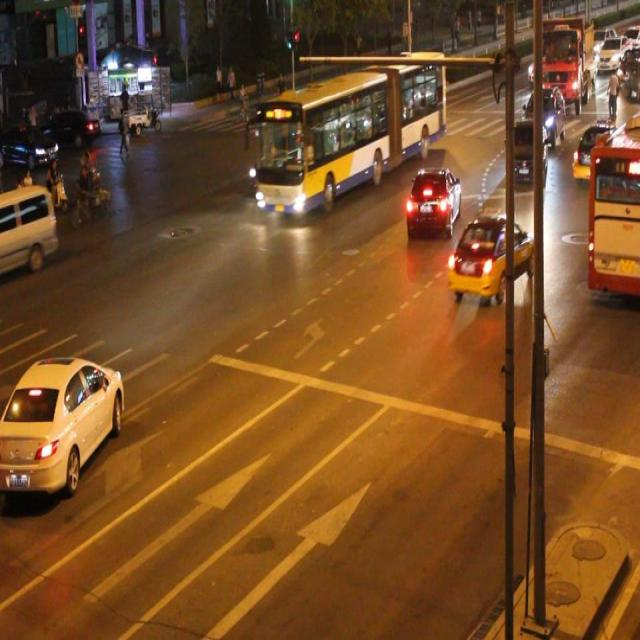car: (0, 358, 124, 494), (448, 212, 536, 296), (404, 165, 459, 240), (250, 131, 309, 191), (570, 124, 621, 181), (504, 122, 545, 186)
truck: (1, 187, 56, 280)
van: (258, 56, 445, 212), (588, 115, 640, 294)
